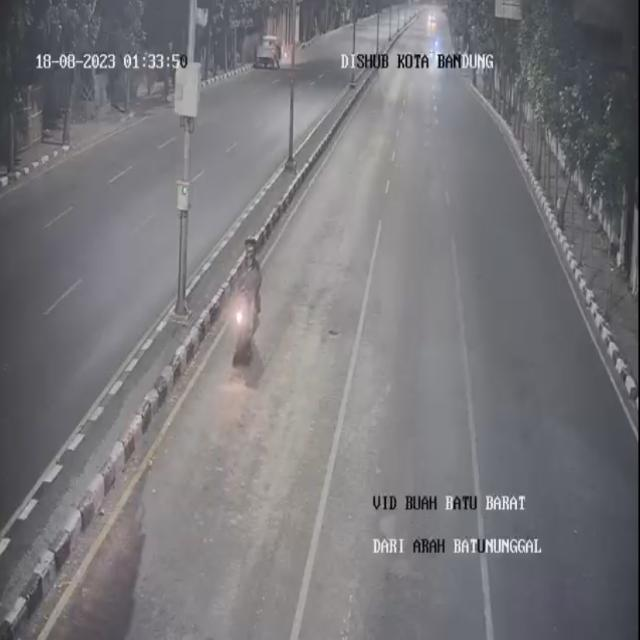motorcycle: (227, 236, 270, 372)
